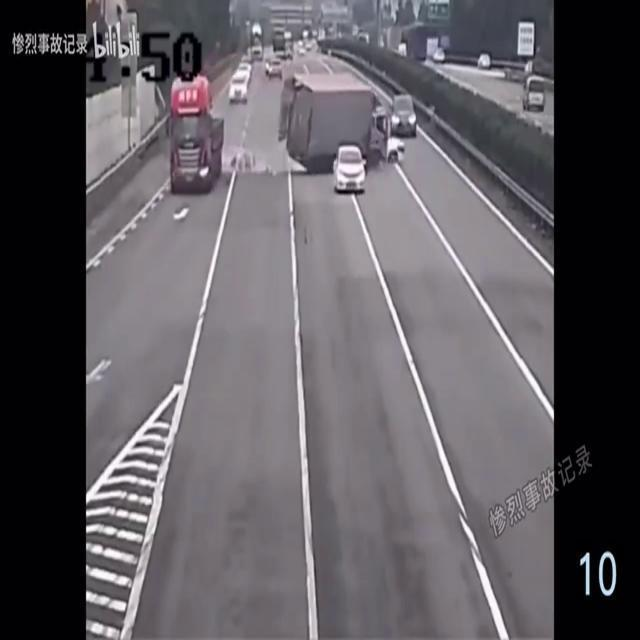accident: (278, 72, 406, 194)
non-accident: (229, 54, 253, 104), (264, 56, 282, 80)
